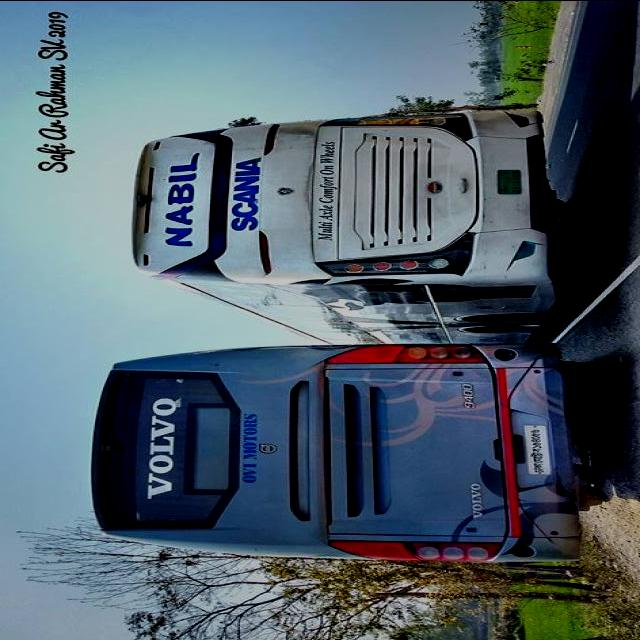bus: (87, 341, 609, 561), (130, 108, 572, 344)
